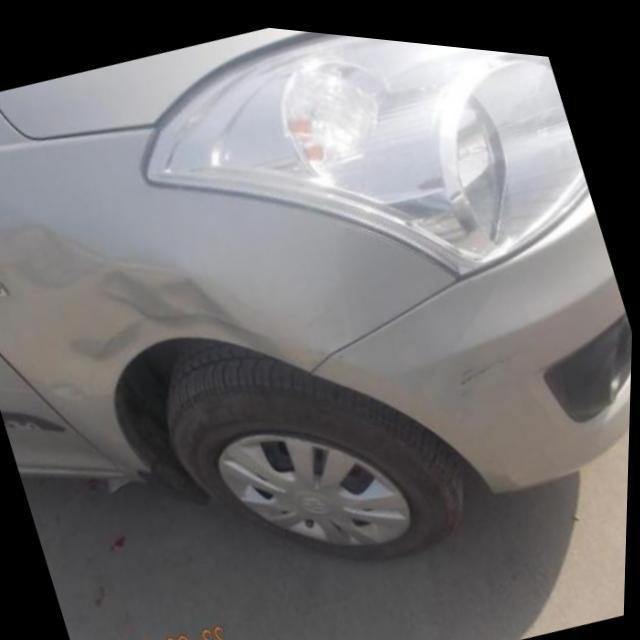dent: (40, 238, 261, 364)
scratch: (454, 334, 517, 386)
